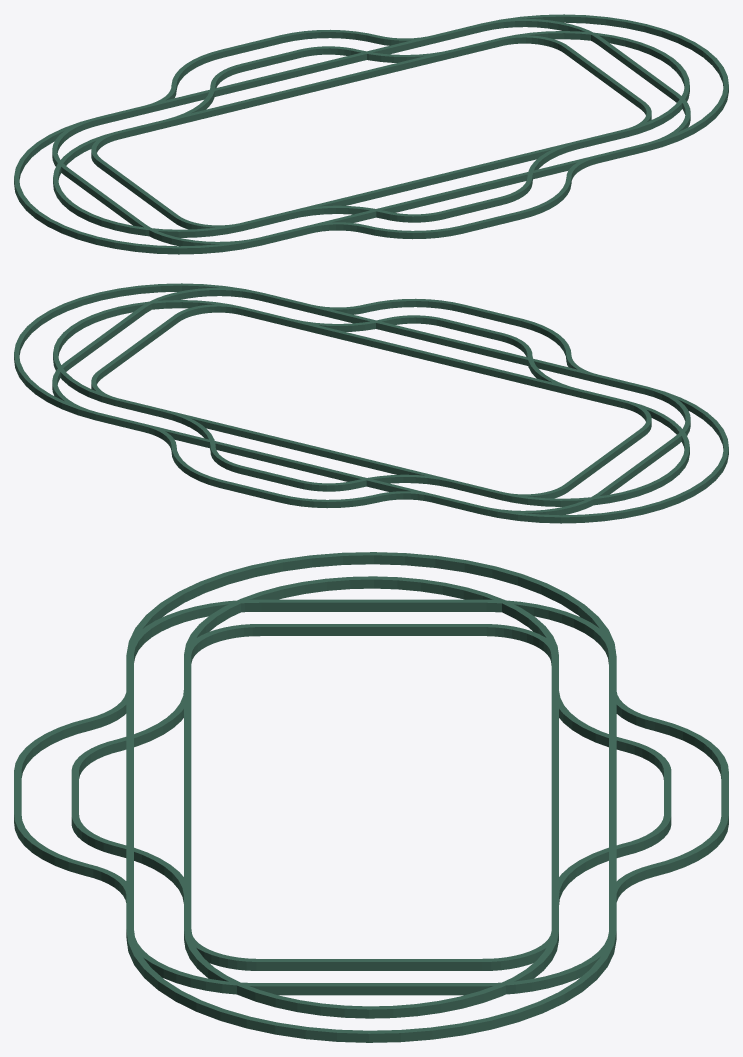
Rendered from rails.glb.
3 views of the same model, one above another, from view 1: azimuth 30°, elevation 25°; view 2: azimuth 150°, elevation 25°; view 3: azimuth 270°, elevation 25° (orthographic). The views are drawn at different scales.
Visible parts, largest first — view 1: Rails; view 2: Rails; view 3: Rails.
Part boxes in pixels (left/top/right/bottom): Rails: left=14, top=14, right=728, bottom=254; Rails: left=14, top=283, right=728, bottom=523; Rails: left=14, top=552, right=728, bottom=1042.
Size of the model in its own units: 9.12 by 0.08 by 5.72.
